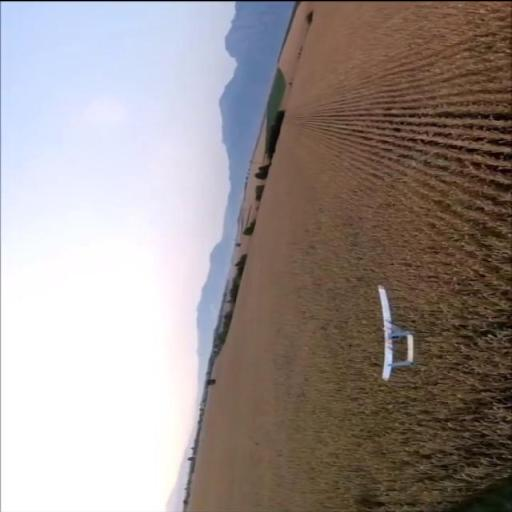uav: (370, 284, 418, 380)
